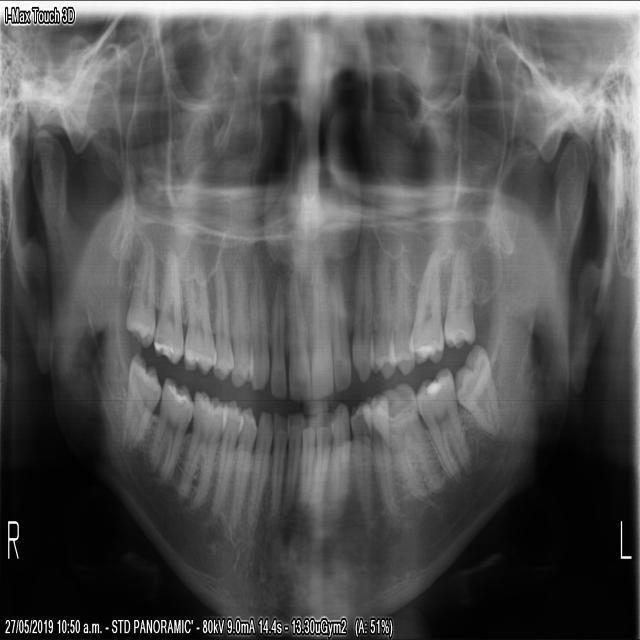LCD: (329, 397, 350, 515)
LCU: (346, 234, 374, 390)
LID: (310, 407, 333, 513), (295, 411, 315, 518)
LIU: (307, 253, 333, 404), (327, 262, 351, 393)
LMD: (368, 373, 444, 508), (410, 358, 473, 490), (450, 336, 502, 446)
LMU: (405, 234, 444, 370), (440, 238, 479, 355)
LPMD: (360, 384, 400, 525), (346, 395, 373, 529)
LPMU: (383, 231, 416, 380), (367, 243, 396, 384)
RCD: (242, 403, 275, 534)
RCU: (244, 263, 270, 395)
RID: (280, 404, 303, 519), (267, 407, 289, 523)
RIU: (282, 262, 311, 407), (265, 274, 287, 401)
RMD: (170, 383, 229, 522), (144, 372, 196, 484), (116, 344, 165, 458)
RMU: (178, 245, 217, 377), (120, 223, 158, 352), (150, 238, 182, 366)
RPMD: (206, 391, 245, 527), (222, 400, 258, 545)
RPMU: (224, 248, 254, 391), (210, 249, 234, 385)
